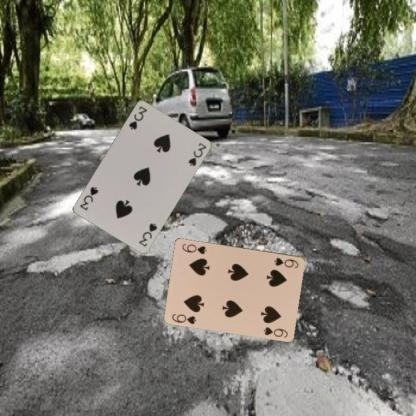3s: (136, 220, 158, 248), (126, 104, 148, 130)
6s: (271, 254, 300, 270), (169, 311, 198, 325)
